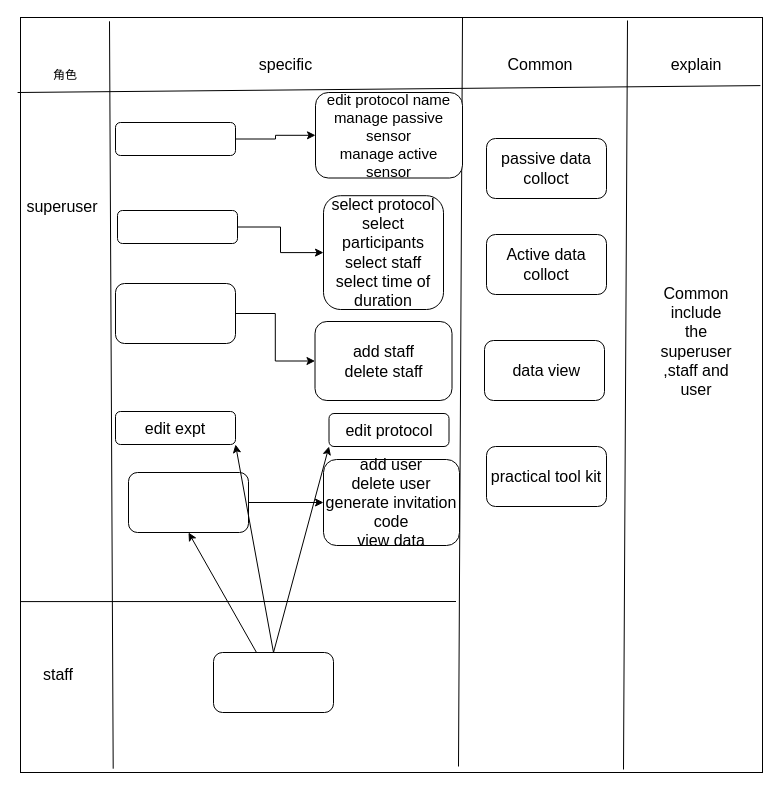
The diagram is 780 pixels wide and 790 high, and some of its shapes have lost their labels. Here are the shapes that lost their labels. From the top down, the centre of each, then its label:
At point (175, 139): "create protocols".
At point (177, 227): "create expt".
At point (175, 313): "manage staff".
At point (188, 502): "manage partcipants".
At point (273, 682): "authority".
